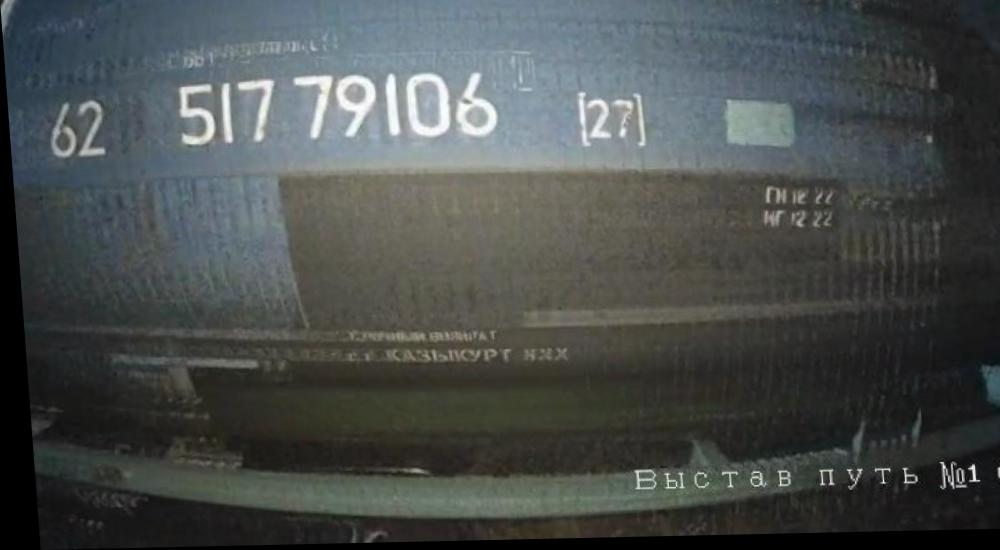Wagon-number: (170, 66, 507, 155)
